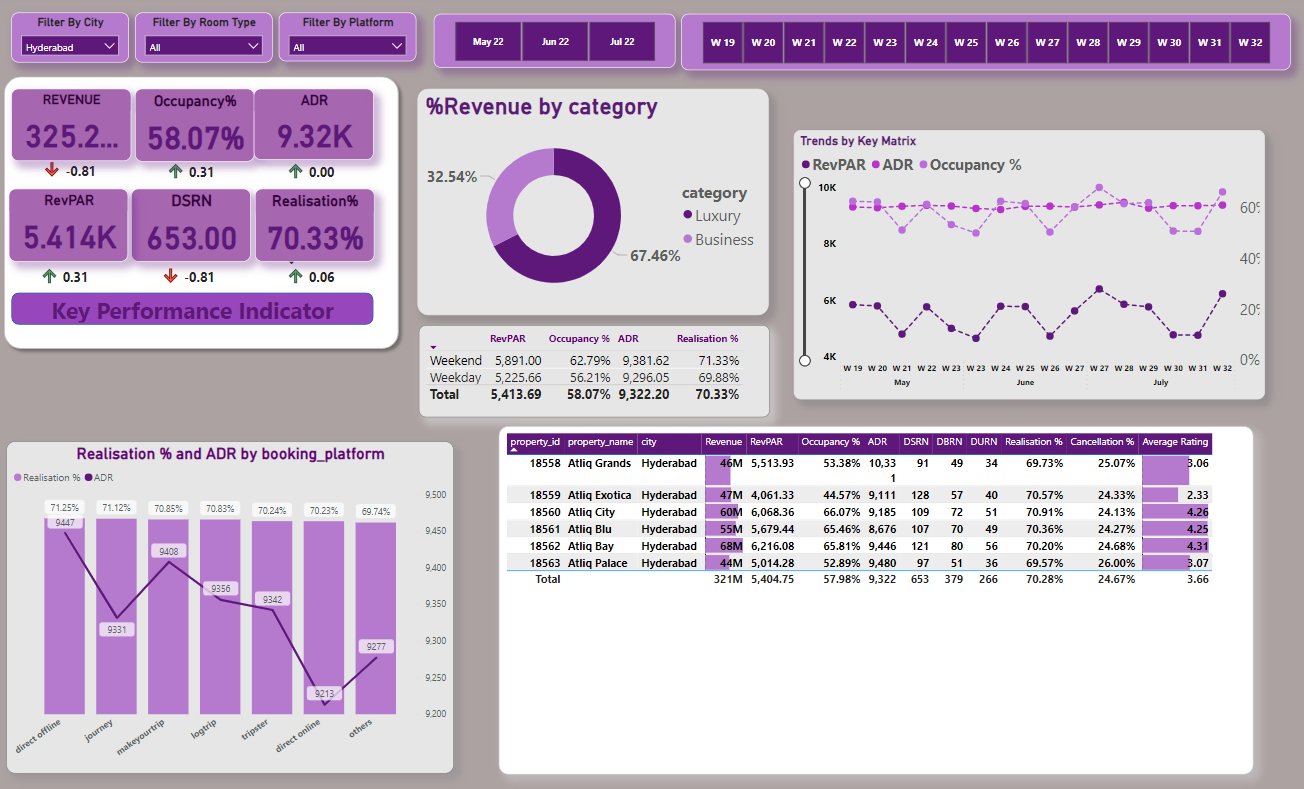

This screenshot's page, from the dashboard's own definition file:
{"tool":"powerbi","page":{"name":"home","canvas":[1800,1100],"ordinal":0},"visuals":[{"type":"tableEx","fields":{"Values":["dim_hotels.property_id","dim_hotels.property_name","dim_hotels.city","key_measure.Revenue","key_measure.RevPAR","key_measure.Occupancy %","key_measure.ADR","key_measure.DSRN","key_measure.DBRN","key_measure.DURN","key_measure.Realisation %","key_measure.Cancellation %"]},"box":[685.7,585.7,1026.8,473.2],"z":0},{"type":"shape","title":"KEY P","box":[3.4,102,554.3,387.6],"z":1000},{"type":"tableEx","fields":{"Values":["key_measure.Revenue WoW change %"]},"box":[55.4,192.5,95.7,68.6],"z":2000},{"type":"card","title":"REVENUE","fields":{"Values":["key_measure.Revenue"]},"box":[21.8,126.8,162.9,98.6],"z":3000},{"type":"tableEx","fields":{"Values":["key_measure.Occupancy WoW change %"]},"box":[224.9,193,95.2,69.1],"z":4000},{"type":"tableEx","fields":{"Values":["key_measure.ADR WoW change %"]},"box":[387.6,193,112.4,70.8],"z":5000},{"type":"tableEx","fields":{"Values":["key_measure.Revenue WoW change %"]},"box":[217.3,336.7,95.3,68.5],"z":6000},{"type":"tableEx","fields":{"Values":["key_measure.Realisation WoW change %"]},"box":[387.6,336.9,91,68.5],"z":7000},{"type":"tableEx","fields":{"Values":["key_measure.Revpar WoW change %"]},"box":[52.9,336.7,95.3,68.5],"z":8000},{"type":"card","title":"Occupancy%","fields":{"Values":["key_measure.Occupancy %"]},"box":[191.3,127.7,162.5,99],"z":9000},{"type":"card","title":"ADR","fields":{"Values":["key_measure.ADR"]},"box":[351.9,127.5,163.2,96.9],"z":10000},{"type":"card","title":"DSRN","fields":{"Values":["key_measure.DSRN"]},"box":[186.1,263,162.6,99],"z":11000},{"type":"card","title":"RevPAR","fields":{"Values":["key_measure.RevPAR"]},"box":[19.3,263,162.6,99],"z":12000},{"type":"card","title":"Realisation%","fields":{"Values":["key_measure.Realisation %"]},"box":[354.1,264.1,162.5,99],"z":13000},{"type":"slicer","title":"Filter By City","fields":{"Values":["dim_hotels.city"]},"box":[22.1,23.8,159.8,68],"z":14000},{"type":"slicer","title":"Filter By Room Type","fields":{"Values":["dim_rooms.room_class"]},"box":[190.4,23.8,187,68],"z":15000},{"type":"slicer","fields":{"Values":["dim_date.mmm yy"]},"box":[596.4,25,328.6,73.2],"z":16000},{"type":"slicer","title":"Filter By Week","fields":{"Values":["dim_date.week no"]},"box":[933.9,25,828.6,76.8],"z":17000},{"type":"donutChart","title":"%Revenue by category","fields":{"Category":["dim_hotels.category"],"Y":["key_measure.Revenue"]},"box":[574.7,127.5,477.7,307.7],"z":18000},{"type":"lineChart","title":"Trends by Key Matrix","fields":{"Category":["dim_date.mmm yy.Variation.Date Hierarchy.Month","dim_date.week no"],"Y":["key_measure.RevPAR","key_measure.ADR"],"Y2":["key_measure.Occupancy %"]},"box":[1085.7,183.9,641.1,366.1],"z":19000},{"type":"lineStackedColumnComboChart","fields":{"Category":["fact_bookings.booking_platform"],"Y":["key_measure.Realisation %"],"Y2":["key_measure.ADR"]},"box":[16.1,607.1,608.9,451.8],"z":20000},{"type":"tableEx","fields":{"Values":["dim_date.day_type","key_measure.RevPAR","key_measure.Occupancy %","key_measure.ADR","key_measure.Realisation %"]},"box":[576.4,448.8,477.7,125.8],"z":21000},{"type":"slicer","title":"Filter By Platform","fields":{"Values":["fact_bookings.booking_platform"]},"box":[385.9,23.8,187,66.3],"z":22000},{"type":"shape","box":[22.1,404.6,493,44.2],"z":23000}]}

Visuals, with their boxes in screenshot pixels (x1, y1, x2, y2), scaled from the page's 1800x1100 canvas onto the 1304x789 screenshot:
tableEx - dim_hotels.property_id x dim_hotels.property_name: Rect(497, 420, 1241, 760)
"KEY P" shape: Rect(2, 73, 404, 351)
tableEx - key_measure.Revenue WoW change %: Rect(40, 138, 109, 187)
"REVENUE" card: Rect(16, 91, 134, 162)
tableEx - key_measure.Occupancy WoW change %: Rect(163, 138, 232, 188)
tableEx - key_measure.ADR WoW change %: Rect(281, 138, 362, 189)
tableEx - key_measure.Revenue WoW change %: Rect(157, 242, 226, 291)
tableEx - key_measure.Realisation WoW change %: Rect(281, 242, 347, 291)
tableEx - key_measure.Revpar WoW change %: Rect(38, 242, 107, 291)
"Occupancy%" card: Rect(139, 92, 256, 163)
"ADR" card: Rect(255, 91, 373, 161)
"DSRN" card: Rect(135, 189, 253, 260)
"RevPAR" card: Rect(14, 189, 132, 260)
"Realisation%" card: Rect(257, 189, 374, 260)
"Filter By City" slicer: Rect(16, 17, 132, 66)
"Filter By Room Type" slicer: Rect(138, 17, 273, 66)
slicer - dim_date.mmm yy: Rect(432, 18, 670, 70)
"Filter By Week" slicer: Rect(677, 18, 1277, 73)
"%Revenue by category" donutChart: Rect(416, 91, 762, 312)
"Trends by Key Matrix" lineChart: Rect(787, 132, 1251, 394)
lineStackedColumnComboChart - fact_bookings.booking_platform x key_measure.Realisation %: Rect(12, 435, 453, 760)
tableEx - dim_date.day_type x key_measure.RevPAR: Rect(418, 322, 764, 412)
"Filter By Platform" slicer: Rect(280, 17, 415, 65)
shape: Rect(16, 290, 373, 322)
